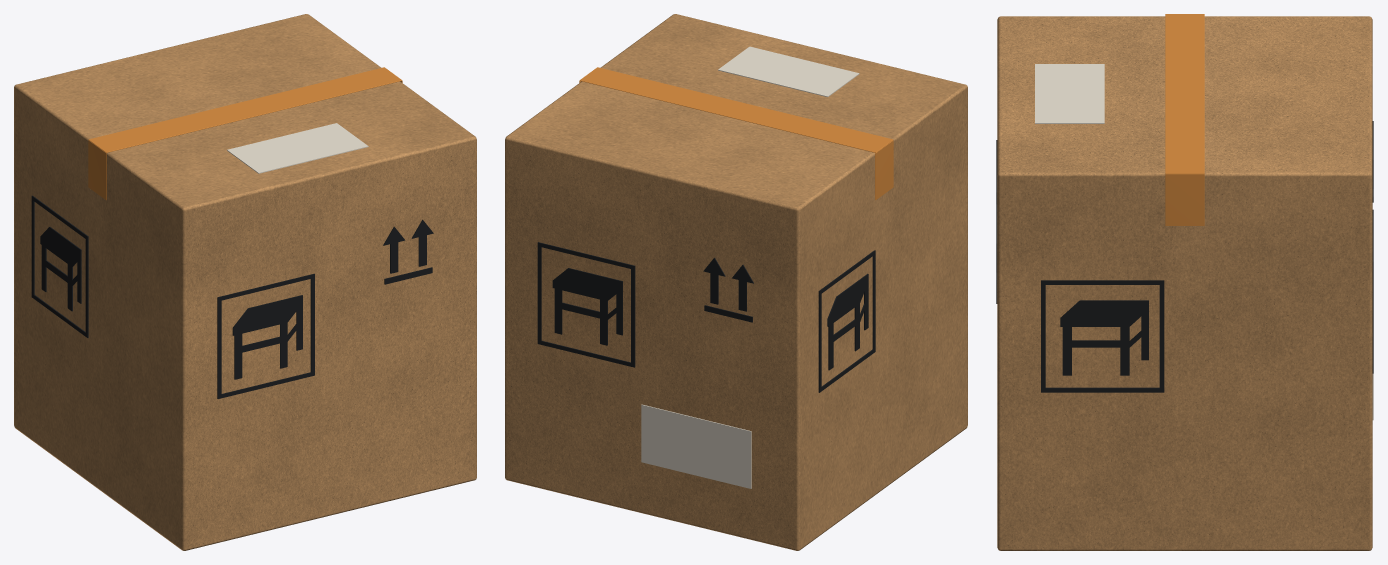
File: Hockerkarton01.glb
The picture shows the model from 3 angles, left to right: view 1: azimuth 30°, elevation 25°; view 2: azimuth 150°, elevation 25°; view 3: azimuth 270°, elevation 25°; orthographic projection. The views are drawn at different scales.
Parts seen in each view (by area): view 1: Hockerkarton01__Cardboard, Hockerkarton01__Black, Hockerkarton01__SafetyOrange, Hockerkarton01__WallWhite; view 2: Hockerkarton01__Cardboard, Hockerkarton01__WallWhite, Hockerkarton01__Black, Hockerkarton01__SafetyOrange; view 3: Hockerkarton01__Cardboard, Hockerkarton01__SafetyOrange, Hockerkarton01__Black, Hockerkarton01__WallWhite.
Boxes of the visible parts, bbox=[...] form: Hockerkarton01__Cardboard: bbox=[14, 14, 476, 550]; Hockerkarton01__Black: bbox=[31, 195, 433, 398]; Hockerkarton01__SafetyOrange: bbox=[88, 67, 402, 200]; Hockerkarton01__WallWhite: bbox=[227, 123, 368, 173]; Hockerkarton01__Cardboard: bbox=[505, 14, 967, 550]; Hockerkarton01__WallWhite: bbox=[641, 46, 859, 488]; Hockerkarton01__Black: bbox=[537, 242, 875, 392]; Hockerkarton01__SafetyOrange: bbox=[579, 67, 893, 200]; Hockerkarton01__Cardboard: bbox=[997, 16, 1372, 550]; Hockerkarton01__SafetyOrange: bbox=[1165, 14, 1204, 225]; Hockerkarton01__Black: bbox=[996, 121, 1373, 392]; Hockerkarton01__WallWhite: bbox=[1035, 64, 1373, 420].
Size of the model in its own units: 0.459 by 0.5092 by 0.459.
4 materials, 1 textured.
